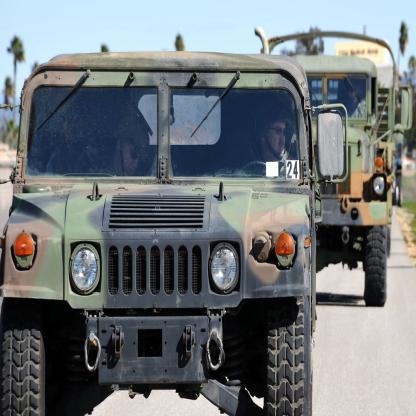Truck: (255, 26, 413, 307)
